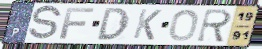D: (96, 7, 130, 41)
F: (58, 7, 96, 40)
K: (131, 8, 164, 42)
O: (168, 8, 201, 42)
R: (195, 8, 234, 44)
S: (27, 4, 63, 42)
